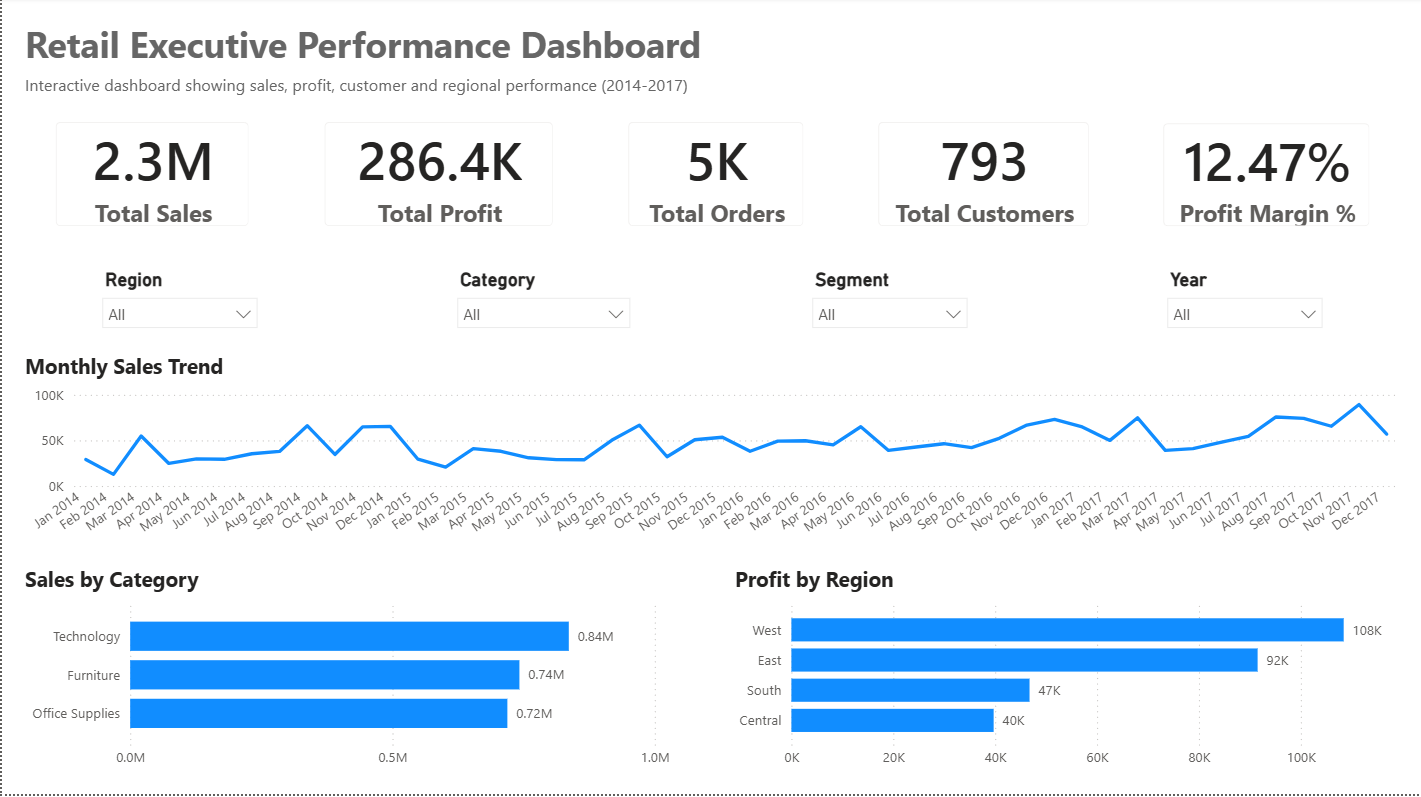

This screenshot's page, from the dashboard's own definition file:
{"tool":"powerbi","page":{"name":"Executive Dashboard","canvas":[1280,720],"ordinal":0},"visuals":[{"type":"cardVisual","fields":{"Data":["Retails Order Full Dataset.Total Sales"]},"box":[32,96,208,128],"z":0},{"type":"cardVisual","fields":{"Data":["Retails Order Full Dataset.Total Profit"]},"box":[273.6,96,240,128],"z":1000},{"type":"cardVisual","fields":{"Data":["Retails Order Full Dataset.Total Orders"]},"box":[547.3,96,192,128],"z":2000},{"type":"cardVisual","fields":{"Data":["Retails Order Full Dataset.Total Customers"]},"box":[772.9,96,224,128],"z":3000},{"type":"slicer","fields":{"Values":["Retails Order Full Dataset.Region"]},"box":[80,240,160,80],"z":4000},{"type":"slicer","fields":{"Values":["Retails Order Full Dataset.Category"]},"box":[400,240,176,80],"z":5000},{"type":"slicer","fields":{"Values":["Retails Order Full Dataset.Segment"]},"box":[720,240,160,80],"z":6000},{"type":"slicer","fields":{"Values":["Calendar Table.Year"]},"box":[1040,240,160,80],"z":7000},{"type":"lineChart","title":"Monthly Sales Trend","fields":{"Category":["Calendar Table.Month Year"],"Y":["Sum(Retails Order Full Dataset.Sales)"]},"box":[16,320,1248,176],"z":8000},{"type":"clusteredBarChart","title":"Sales by Category","fields":{"Category":["Retails Order Full Dataset.Category"],"Y":["Sum(Retails Order Full Dataset.Sales)"]},"box":[16,512,592,192],"z":9000},{"type":"clusteredBarChart","title":"Profit by Region","fields":{"Category":["Retails Order Full Dataset.Region"],"Y":["Sum(Retails Order Full Dataset.Profit)"]},"box":[656,512,608,192],"z":10000},{"type":"textbox","box":[16,16,624,64],"z":11000},{"type":"textbox","box":[16,64,608,32],"z":12000},{"type":"cardVisual","fields":{"Data":["Retails Order Full Dataset.Profit Margin %"]},"box":[1030.2,96.5,220.9,127.9],"z":13000}]}

Visuals, with their boxes in screenshot pixels (x1, y1, x2, y2), scaled from the page's 1280x720 canvas onto the 1421x797 screenshot:
cardVisual - Retails Order Full Dataset.Total Sales: [36,106,266,248]
cardVisual - Retails Order Full Dataset.Total Profit: [304,106,570,248]
cardVisual - Retails Order Full Dataset.Total Orders: [608,106,821,248]
cardVisual - Retails Order Full Dataset.Total Customers: [858,106,1107,248]
slicer - Retails Order Full Dataset.Region: [89,266,266,354]
slicer - Retails Order Full Dataset.Category: [444,266,639,354]
slicer - Retails Order Full Dataset.Segment: [799,266,977,354]
slicer - Calendar Table.Year: [1155,266,1332,354]
"Monthly Sales Trend" lineChart: [18,354,1403,549]
"Sales by Category" clusteredBarChart: [18,567,675,779]
"Profit by Region" clusteredBarChart: [728,567,1403,779]
textbox: [18,18,710,89]
textbox: [18,71,693,106]
cardVisual - Retails Order Full Dataset.Profit Margin %: [1144,107,1389,248]
